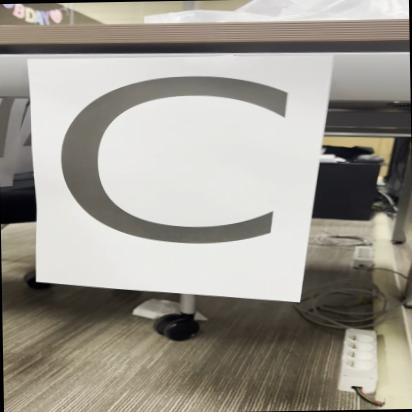seat: (41, 60, 308, 291)
